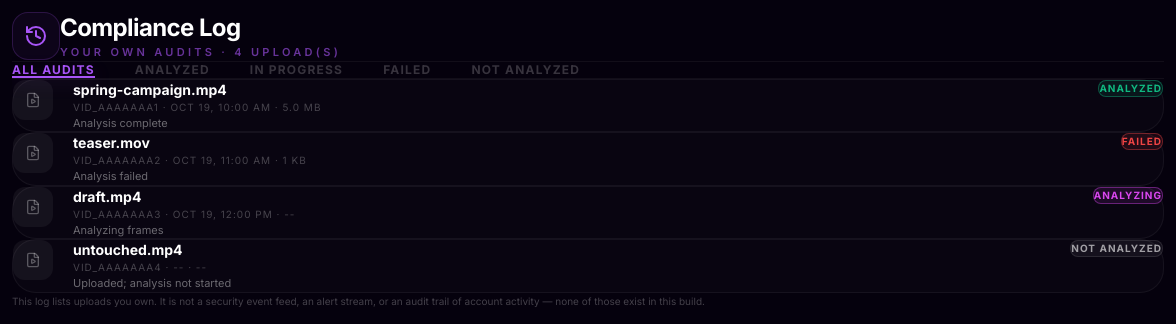
Test: real audit history › filters by real job state
Expected: the heading "spring-campaign.mp4" is shown, [73,80,227,98]
Click the button "Failed" at [407, 70], box [383,62,431,78]
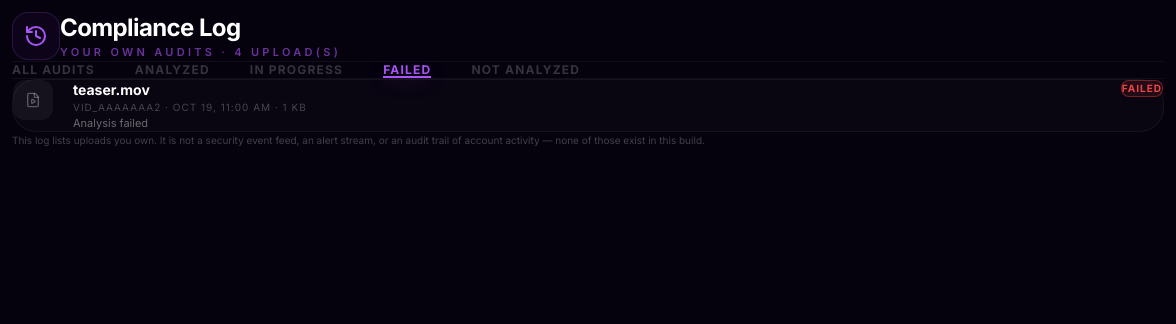
Expected: the heading "teaser.mov" is shown, [73,80,150,98]
Result: the heading "spring-campaign.mp4" is gone
Result: the heading "draft.mp4" is gone
